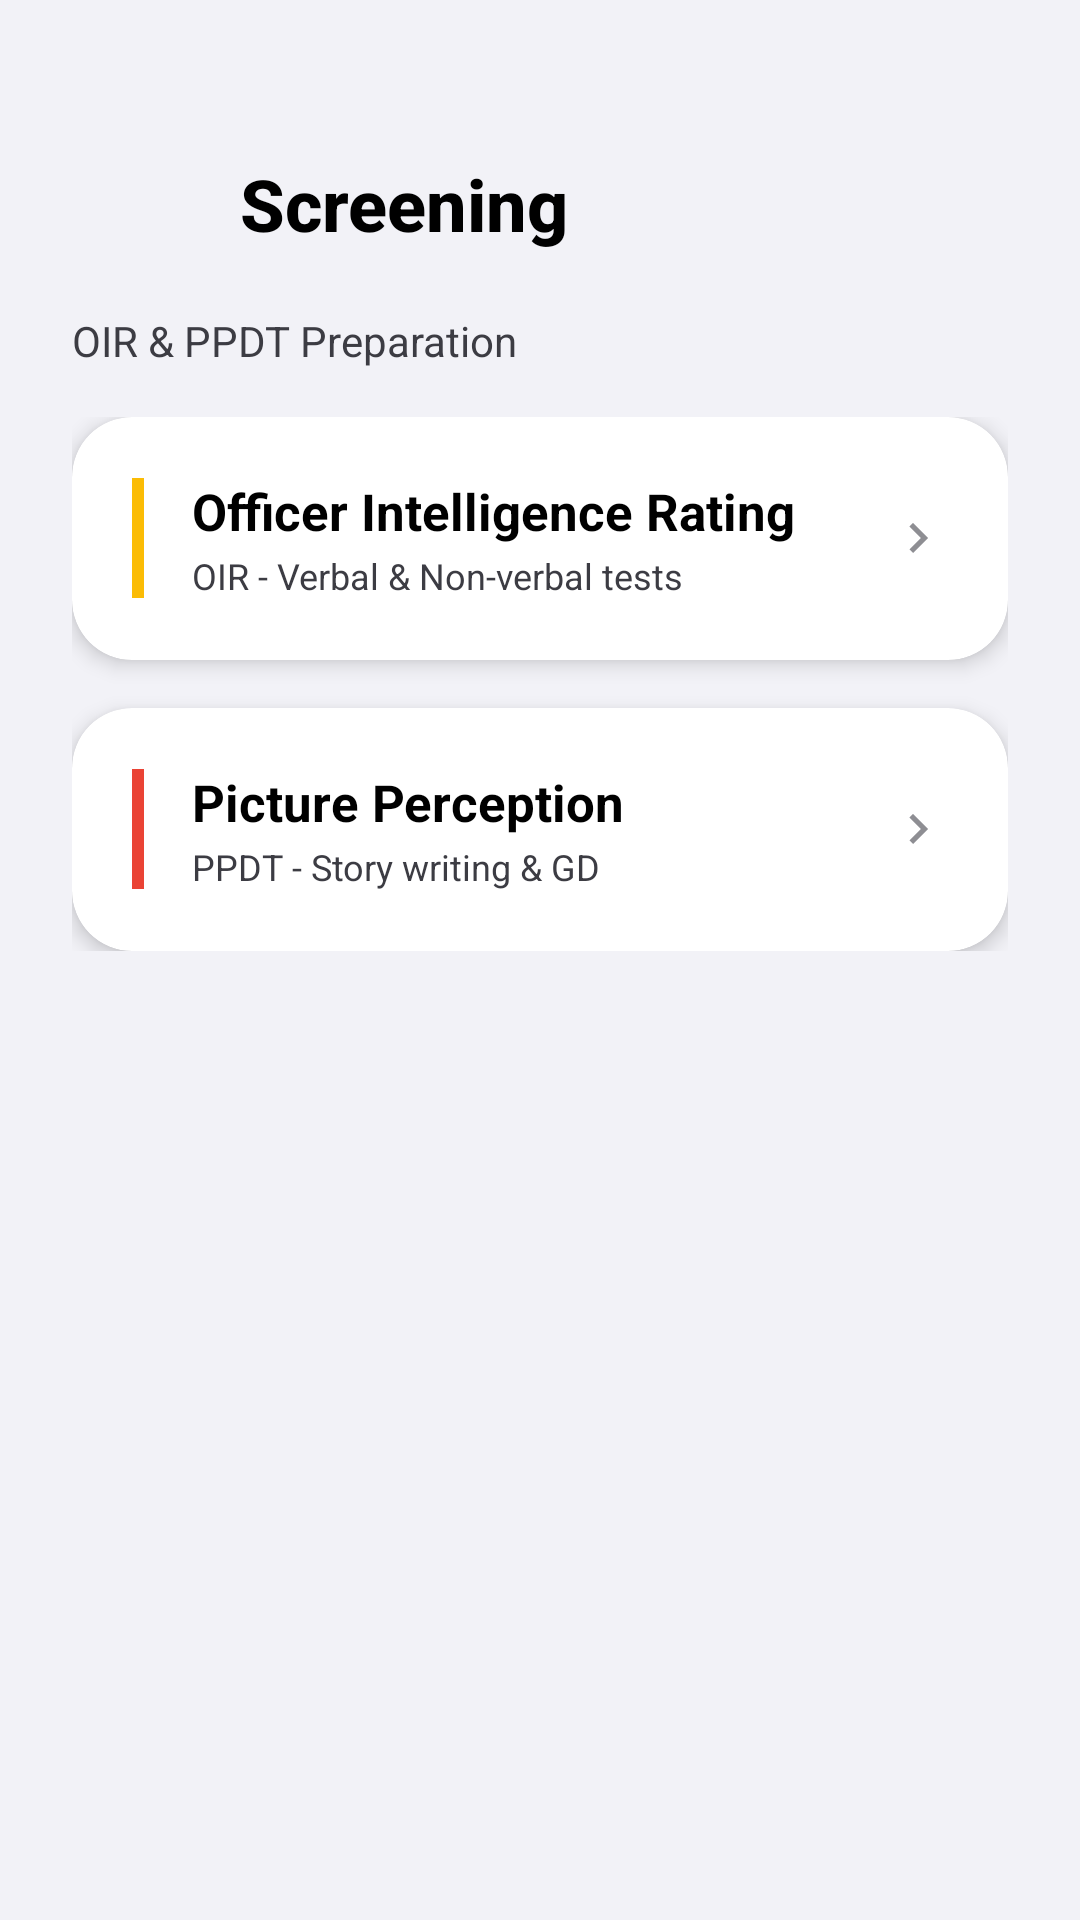

Where to tap for icons on this 1080px x 1920px app screen, as (x,y):
Open: (918,538), (918,829)
